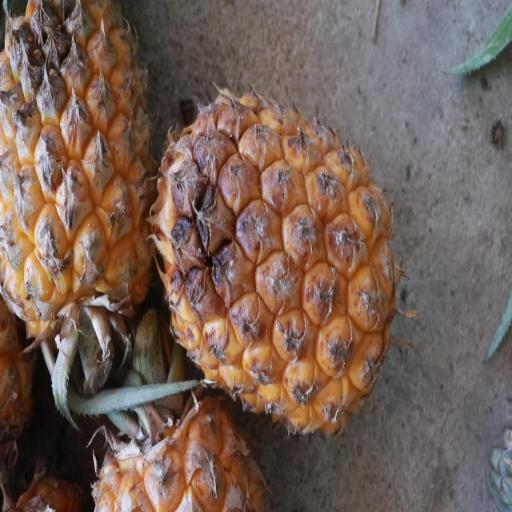Pineapple - v8 v1: (150, 85, 404, 439), (0, 2, 157, 395)
